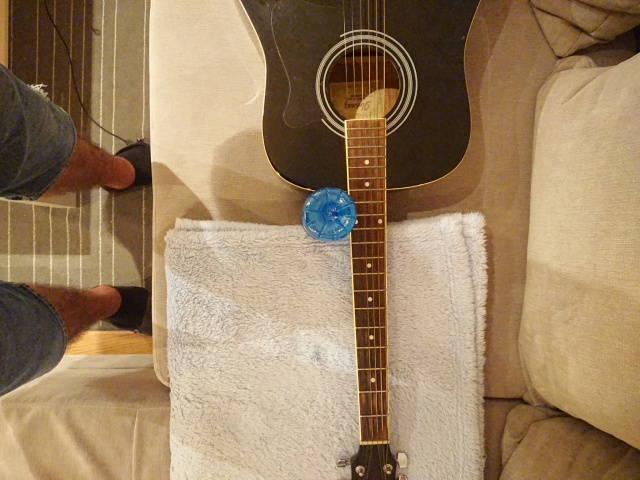Vindi Iso Sport Forest Strawberries 500mL: (298, 183, 356, 242)
